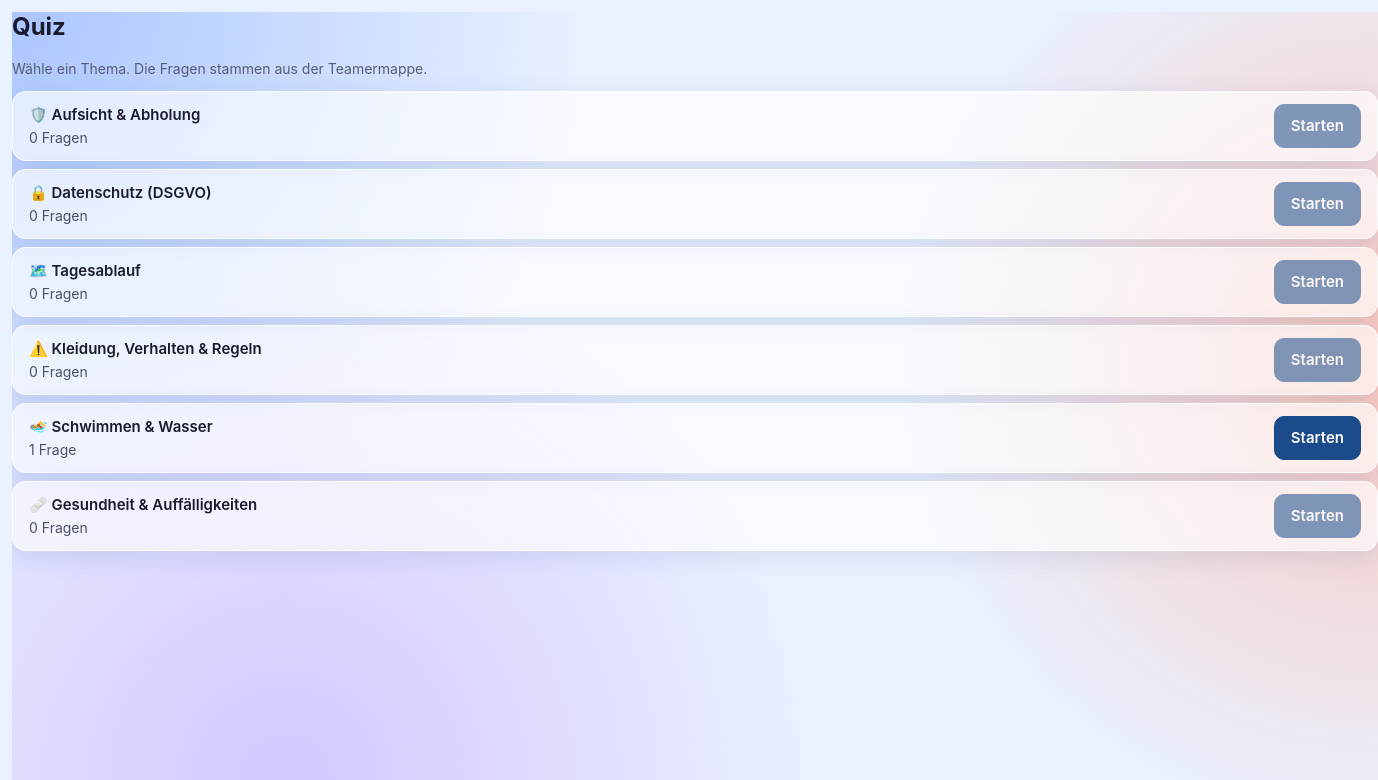
Test: Quiz: Ablauf › Speicherfehler beim Ergebnis: Ergebnis trotzdem sichtbar, Fehler gemeldet
Click the button with aria-label "Quiz starten: Schwimmen & Wasser" at (1317, 438), box [1274,416,1361,460]
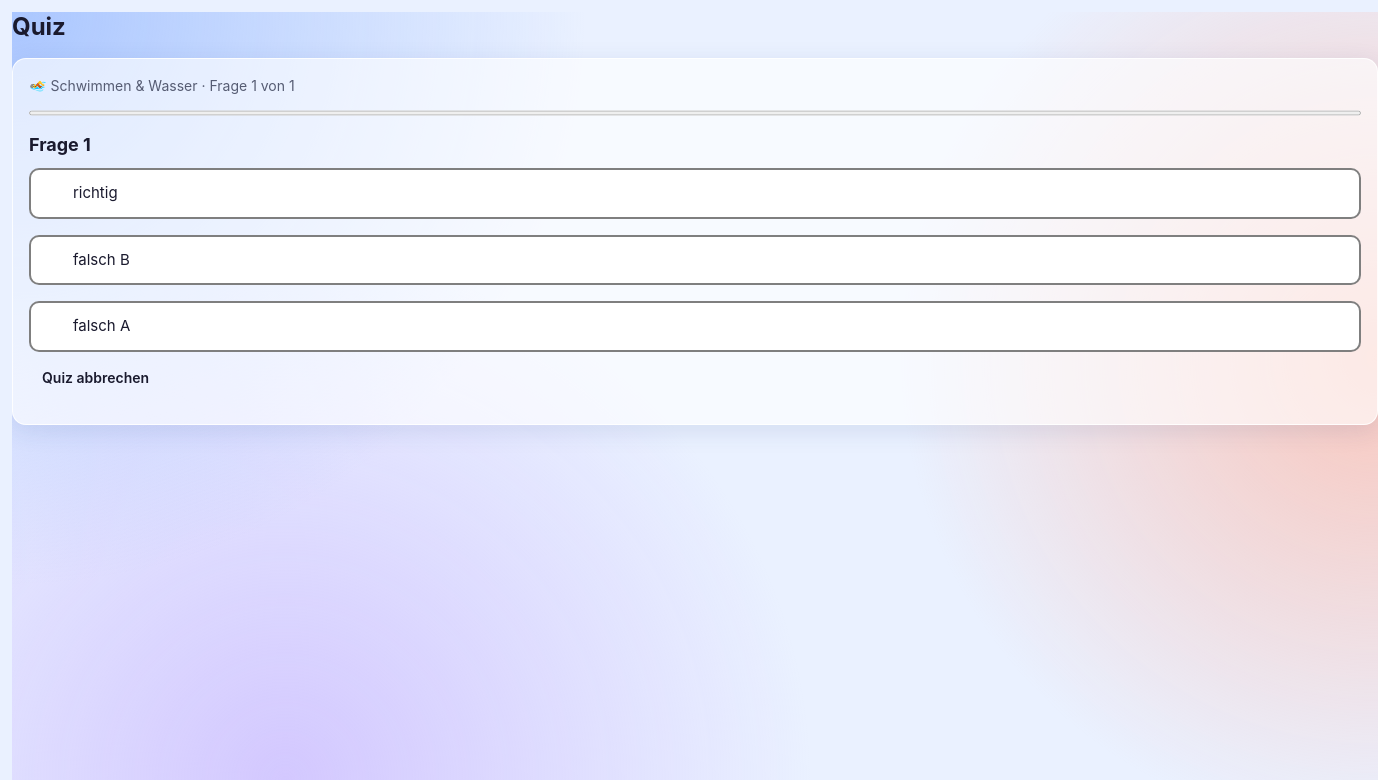
Click the button "richtig" at (95, 192), box [29,168,1361,218]
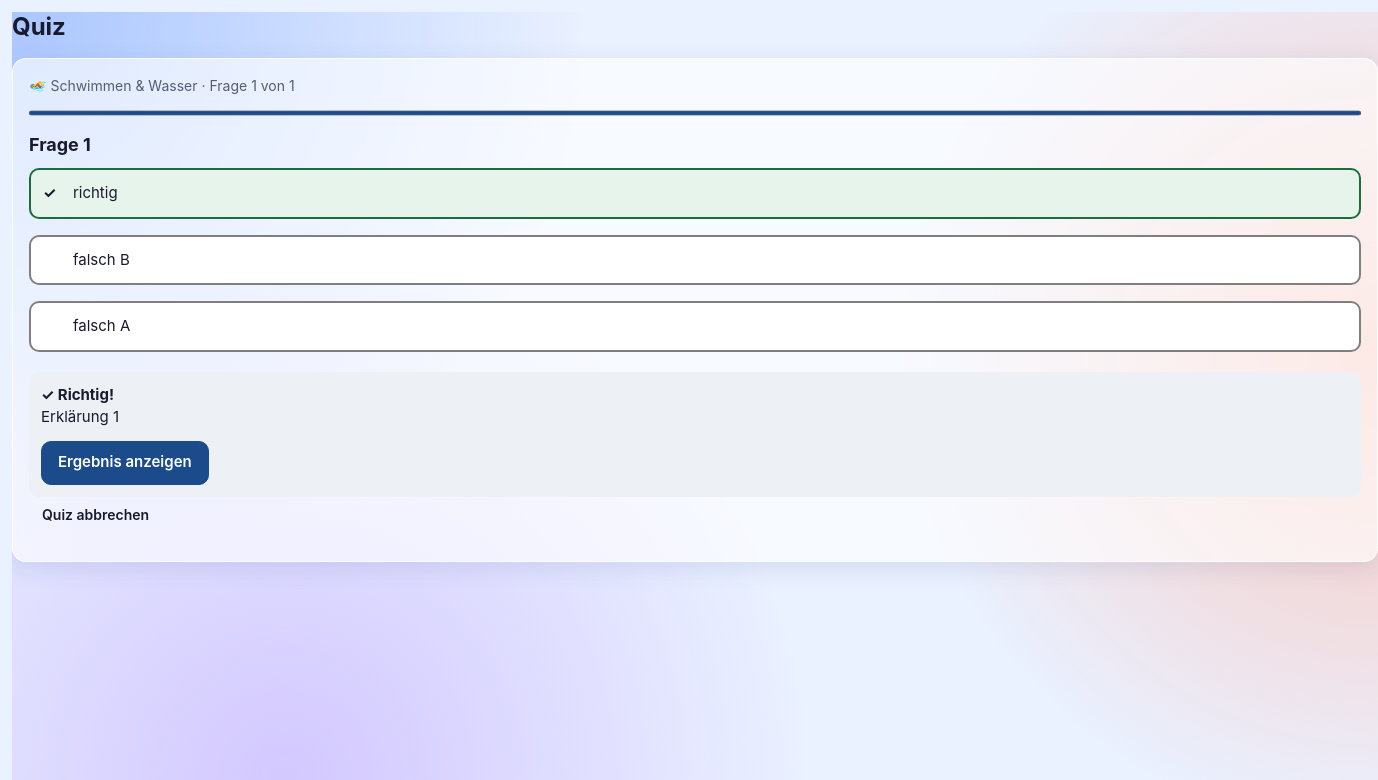
Click the button "Ergebnis anzeigen" at (125, 462), box [41,440,209,484]
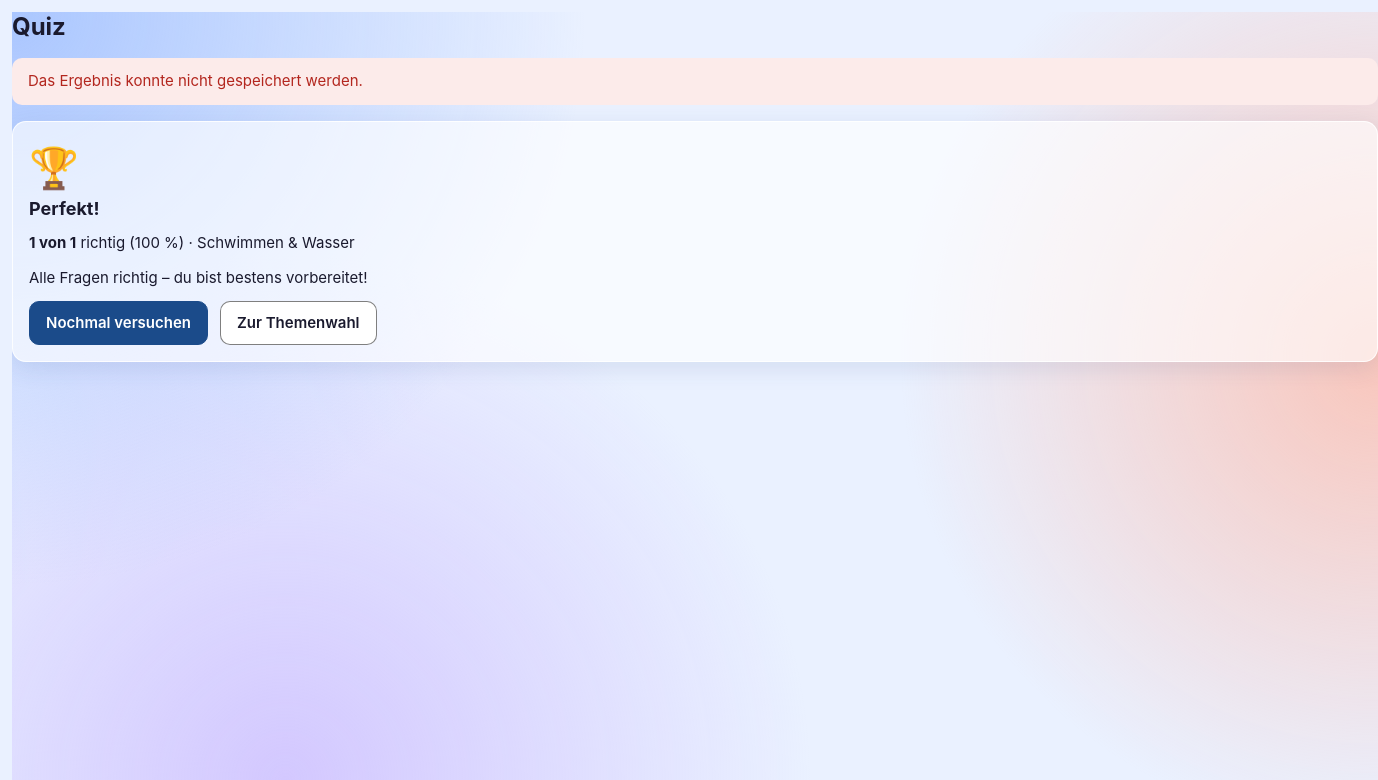
Expected: the heading "Perfekt!" is shown, [29,198,100,218]
Expected: the text "Das Ergebnis konnte nicht gespeichert werden." is shown, [12,58,1377,104]
